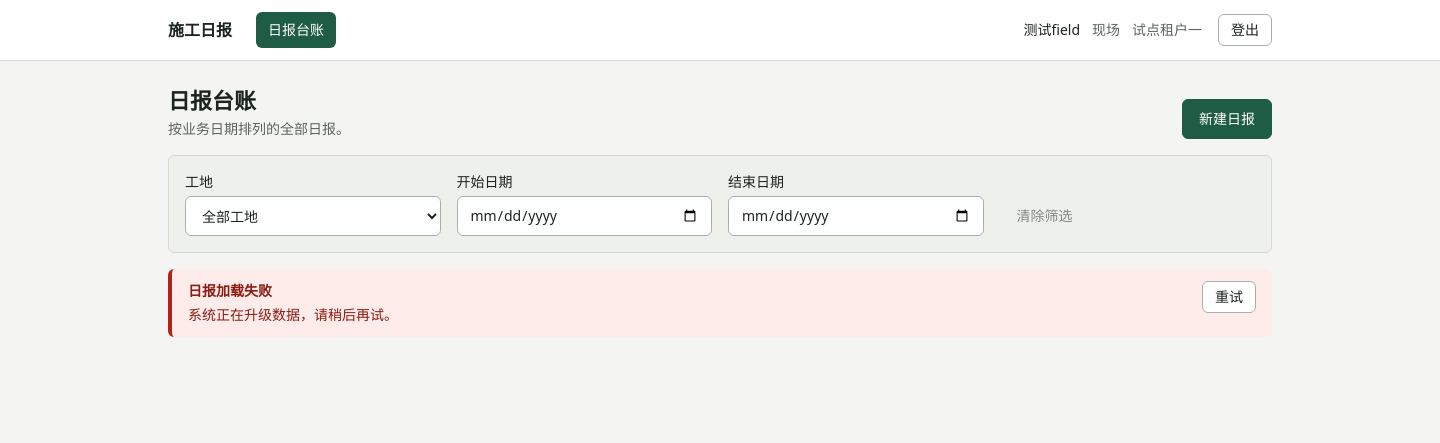
ReportsPage › shows the error state with the mapped message and retries
Expected: the message shows "日报加载失败", [188,281,272,300]
Expected: the message shows "系统正在升级数据", [188,305,398,324]
Click the button "重试". click: (1229, 297)
box: [1202,281,1256,313]
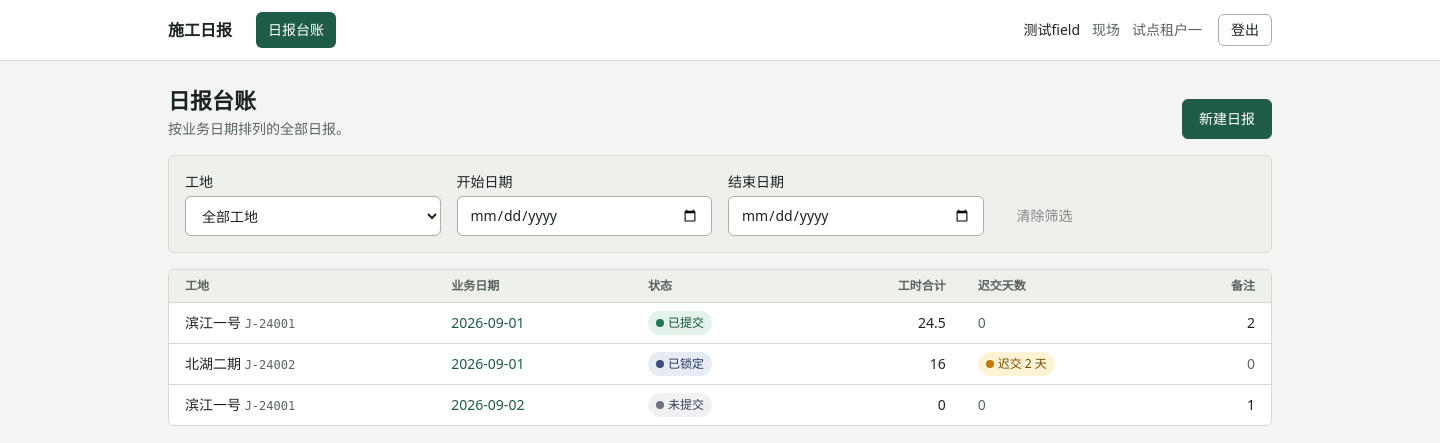
Expected: the table is shown, [169,270,1271,425]
